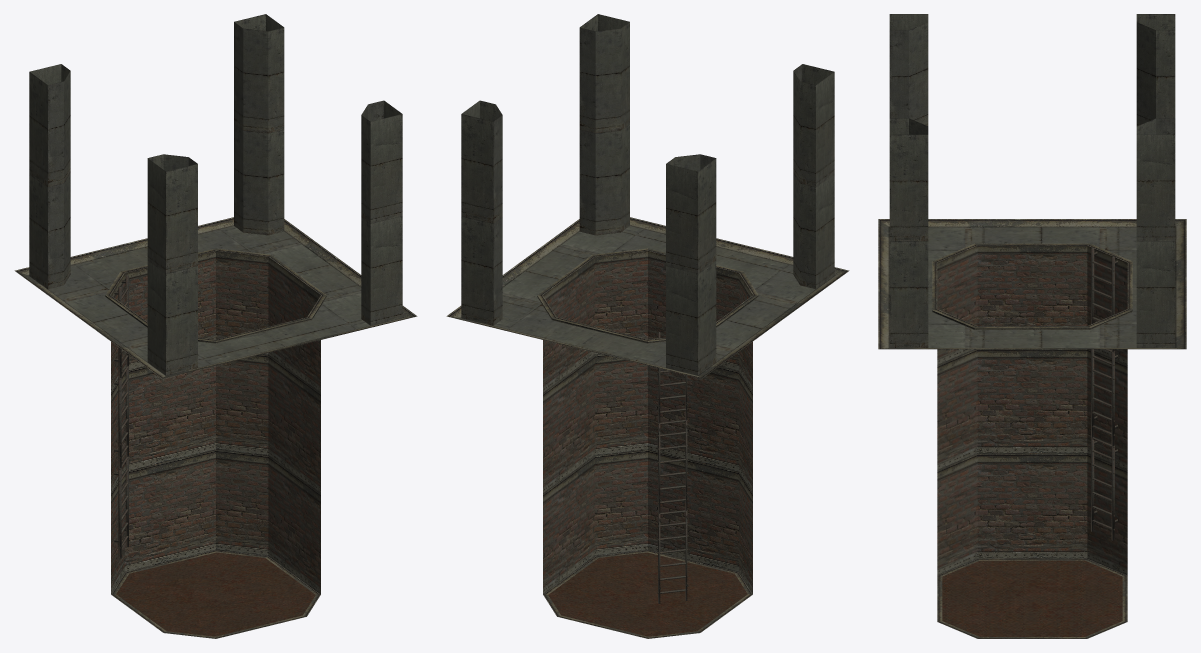
File: structure_piece_rg_1_1.dae
3 renders of one model, left to right at view 1: azimuth 30°, elevation 25°; view 2: azimuth 150°, elevation 25°; view 3: azimuth 270°, elevation 25°, orthographic. The views are drawn at different scales.
Parts seen in each view (by area): view 1: structure_piece_rg_1_1; view 2: structure_piece_rg_1_1; view 3: structure_piece_rg_1_1.
Part boxes in pixels (bbox=[...]): structure_piece_rg_1_1: bbox=[14, 14, 417, 638]; structure_piece_rg_1_1: bbox=[446, 14, 849, 638]; structure_piece_rg_1_1: bbox=[878, 14, 1186, 638].
Bounding box in the file's own units: 8 × 8 × 15.
4 materials, 4 textured.
